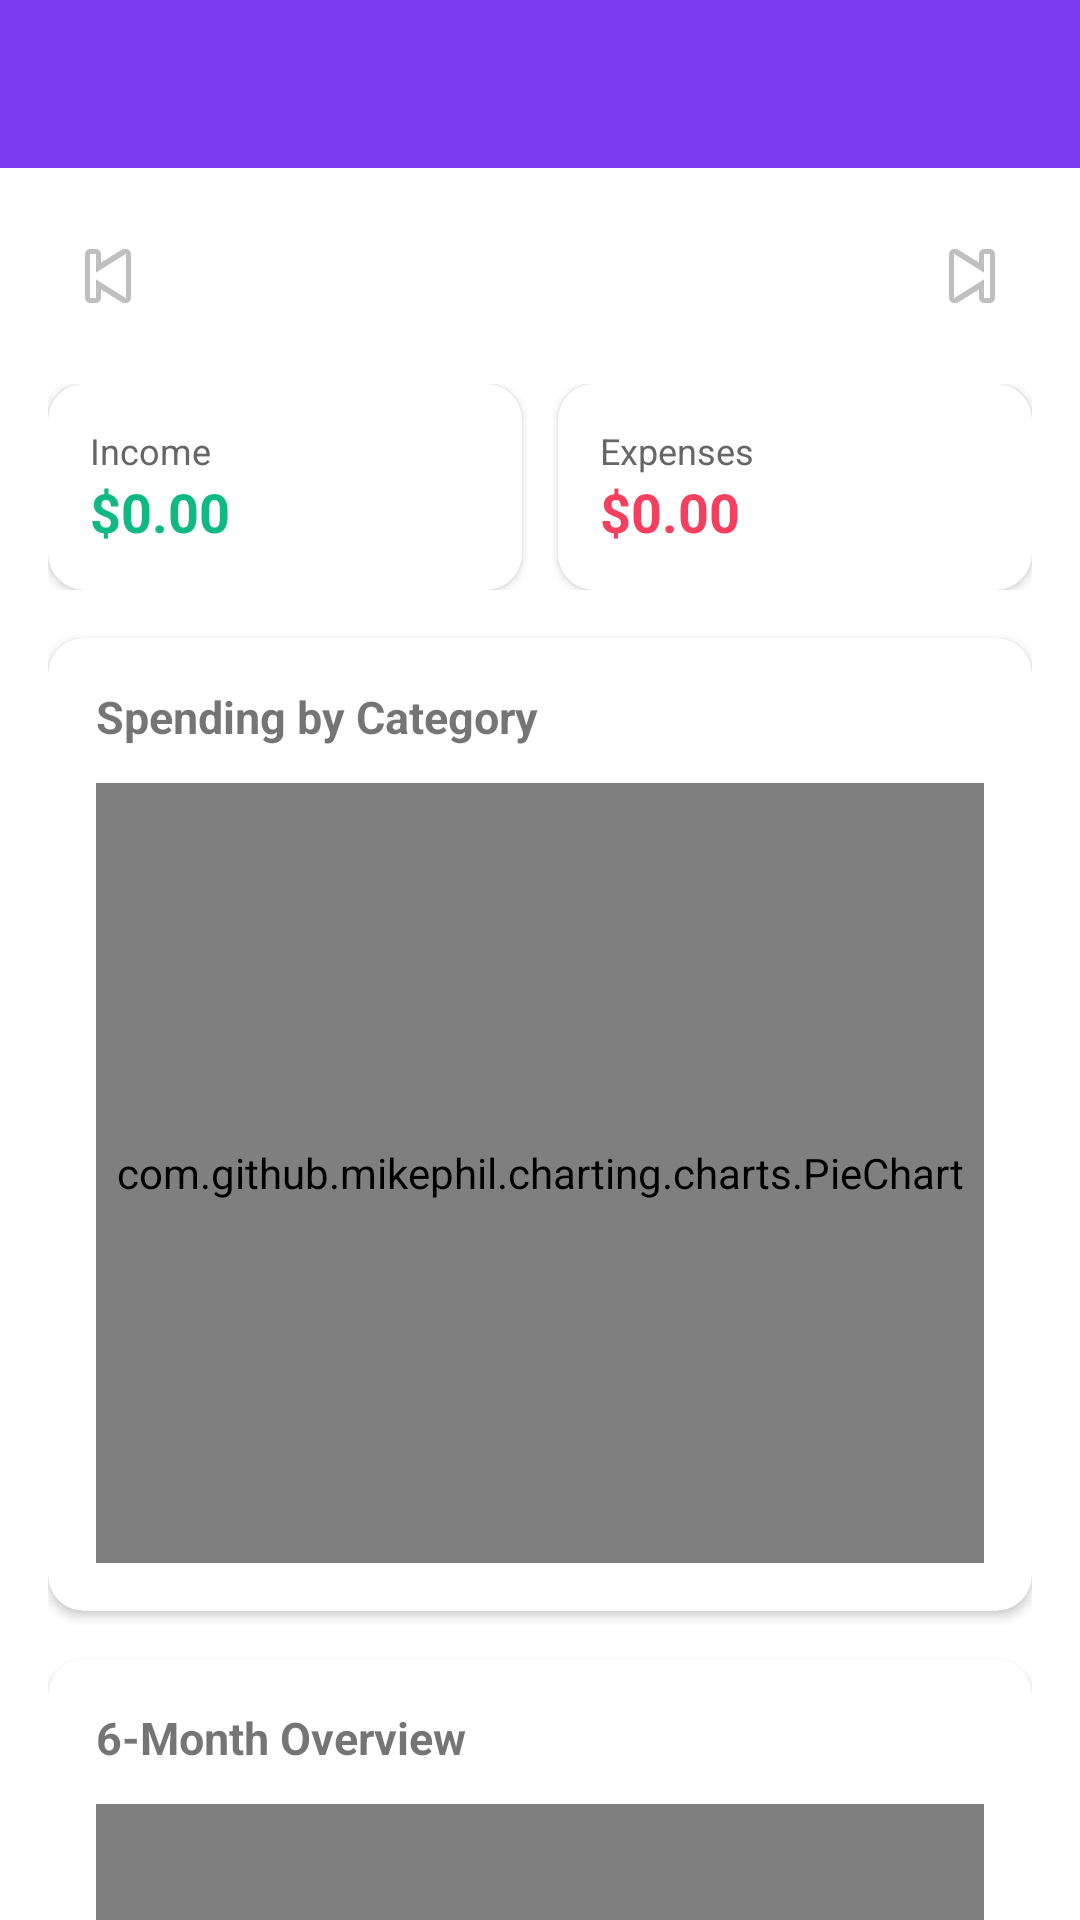

Named icons in this screenshot (1080x1920) and their bounding boxes, (x1, y1, x2, y2):
next: (949, 249, 995, 303)
previous: (85, 249, 131, 303)
